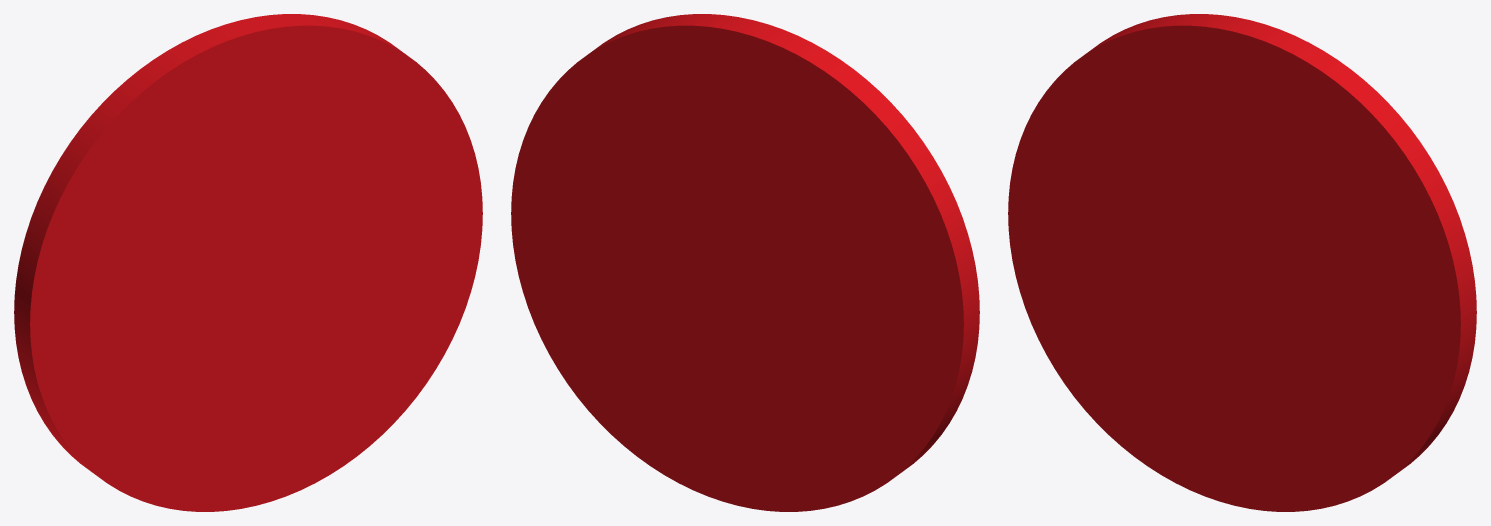
The model's file is nano_center_red.obj.
3 renders of one model, left to right at view 1: azimuth 30°, elevation 25°; view 2: azimuth 150°, elevation 25°; view 3: azimuth 330°, elevation 25°, orthographic.
Size of the model in its own units: 0.0131 by 0.0131 by 0.0008.
1 material, 1 textured.
